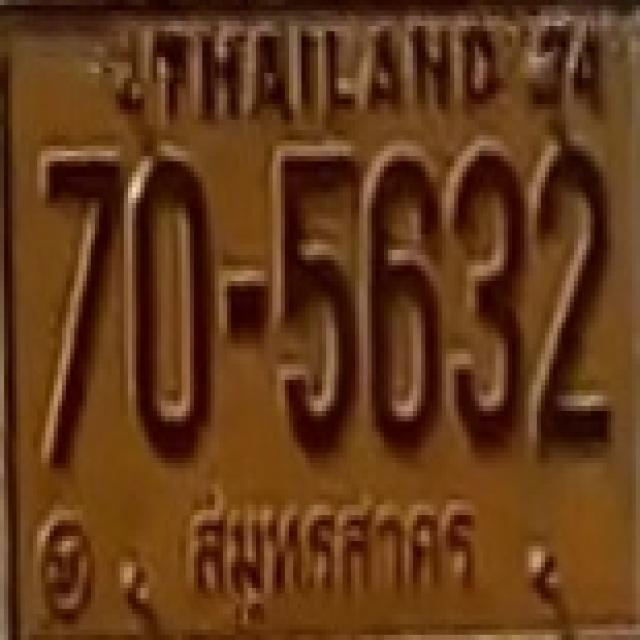0: (134, 156, 213, 458)
2: (534, 149, 614, 447)
3: (450, 148, 524, 450)
5: (274, 152, 366, 462)
6: (368, 154, 438, 450)
7: (34, 156, 122, 467)
SKN: (179, 494, 491, 628)
